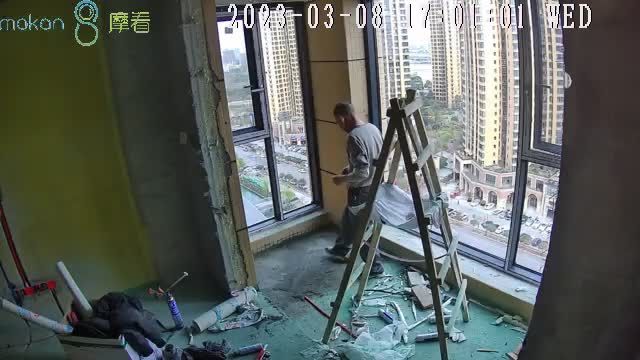people: (330, 101, 384, 278)
window: (211, 1, 566, 281)
